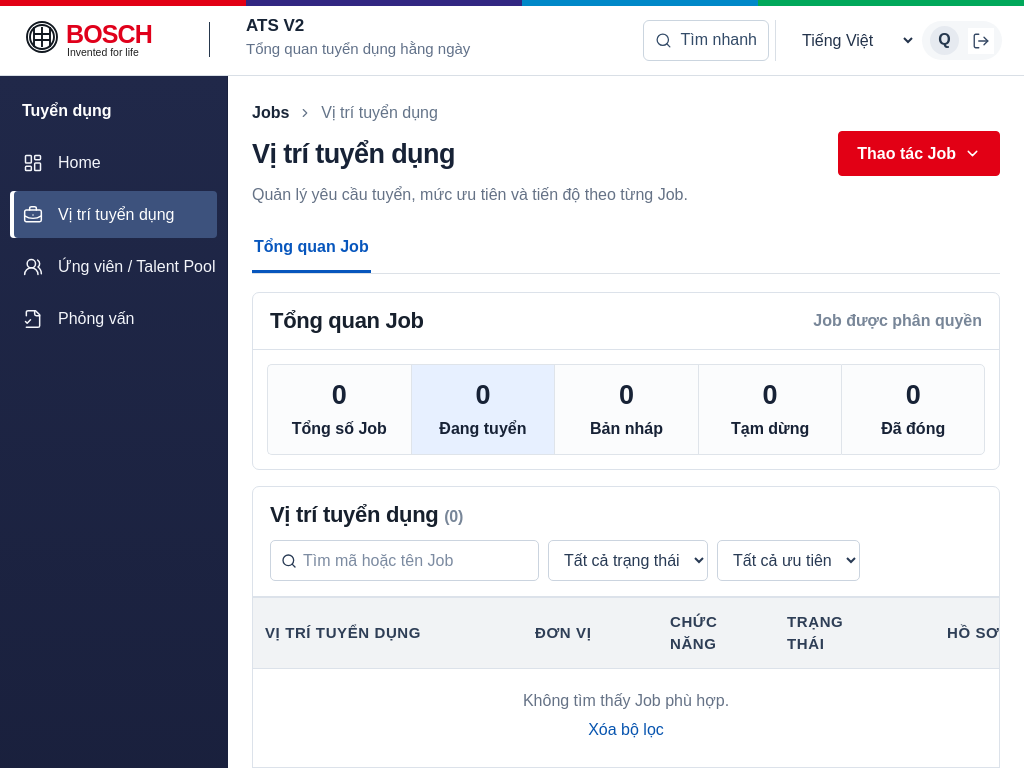
Test: silent auth refresh removes Admin creation when roles are revoked
Click the button "Thao tác Job": (919, 154) [838,131,1000,176]
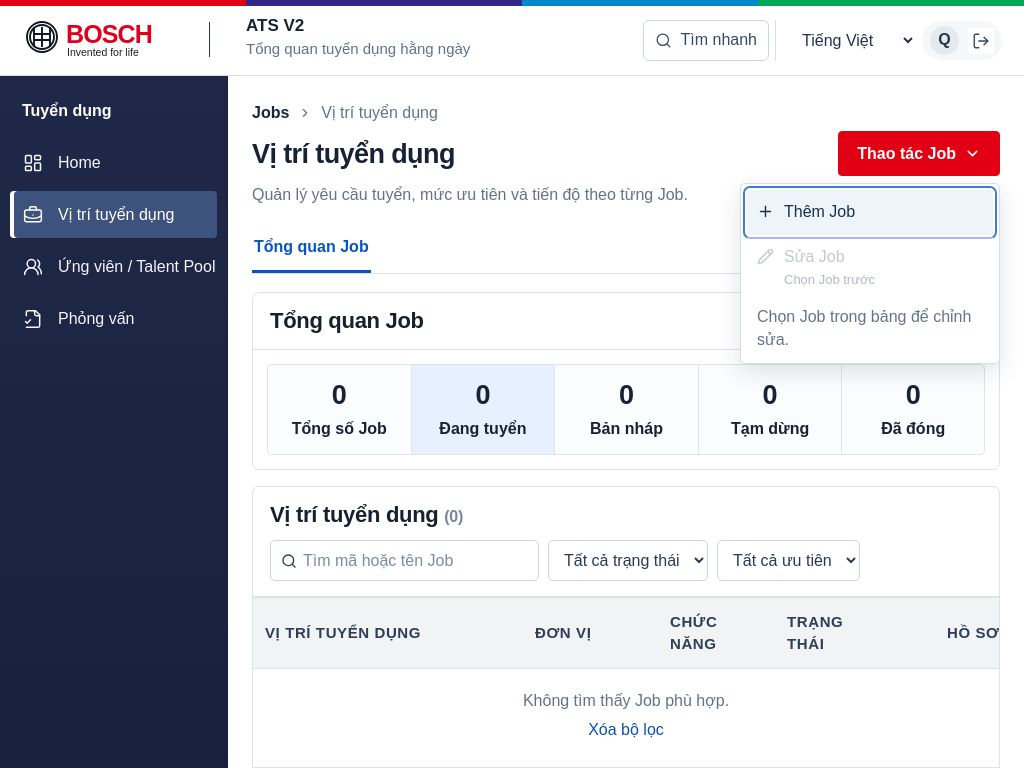
Click the menu item "Thêm Job": (870, 213) [747,190,993,235]
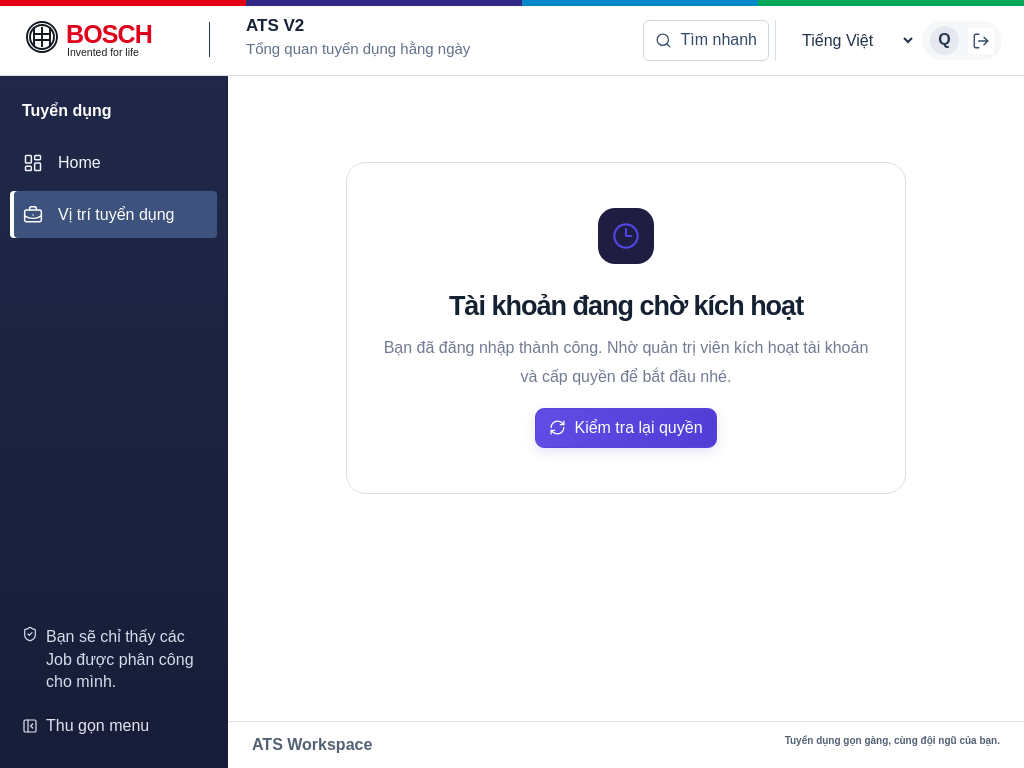
Now the heading "Tài khoản đang chờ kích hoạt" is shown, box [449,291,803,321]
